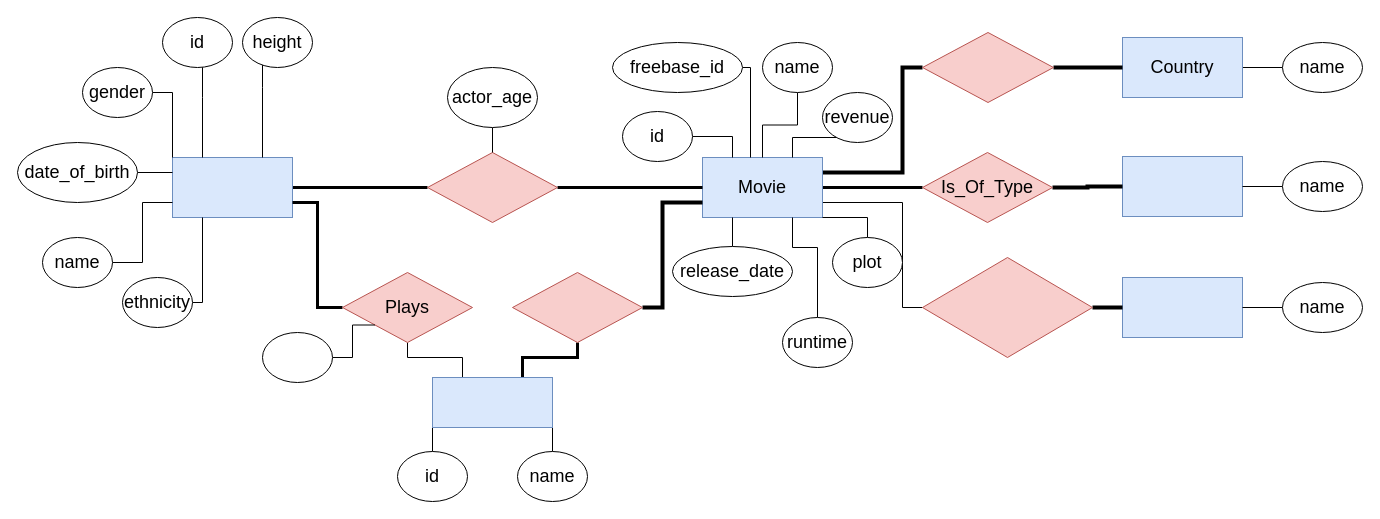
This 1380x519 diagram has some shape labels left out. The box of each missing label's shape, as (x1, y1, x2, y2) in pixels:
Actor: (172, 156, 292, 218)
Appears_In: (426, 152, 558, 222)
Belongs_To: (512, 272, 642, 342)
Character: (432, 376, 552, 428)
Comes_From: (922, 32, 1054, 102)
Genre: (1122, 156, 1242, 216)
Language: (1122, 276, 1242, 338)
map_id: (262, 332, 332, 382)
Spoken_Languages: (922, 256, 1092, 358)
